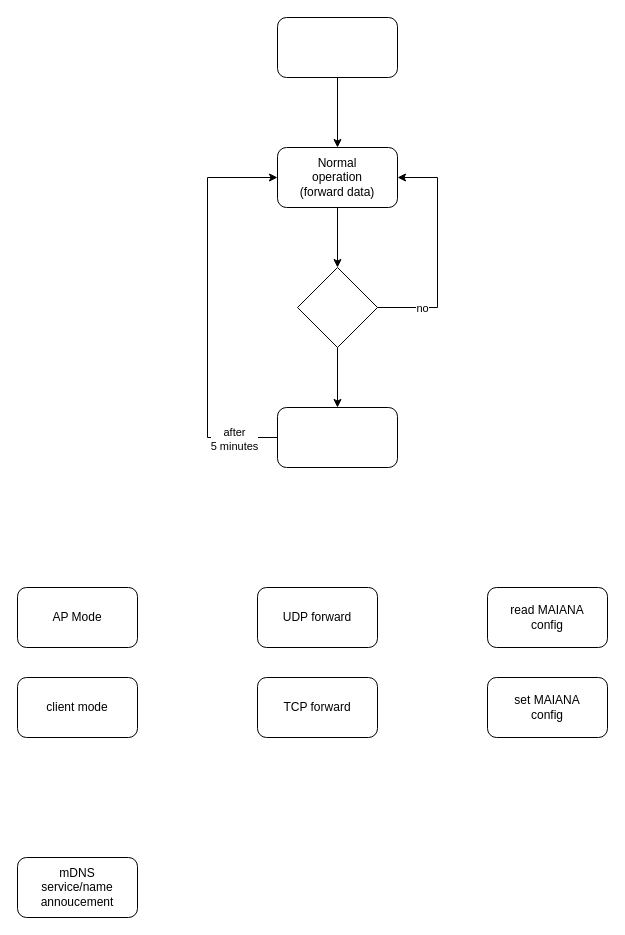
Some shapes in this 625 by 935 pixel diagram are drawn without their labels. The box of each missing label's shape, as (x1, y1, x2, y2) in pixels:
config button?: (296, 266, 378, 348)
Power On: (276, 16, 398, 78)
start config mode with access point: (276, 406, 398, 468)
